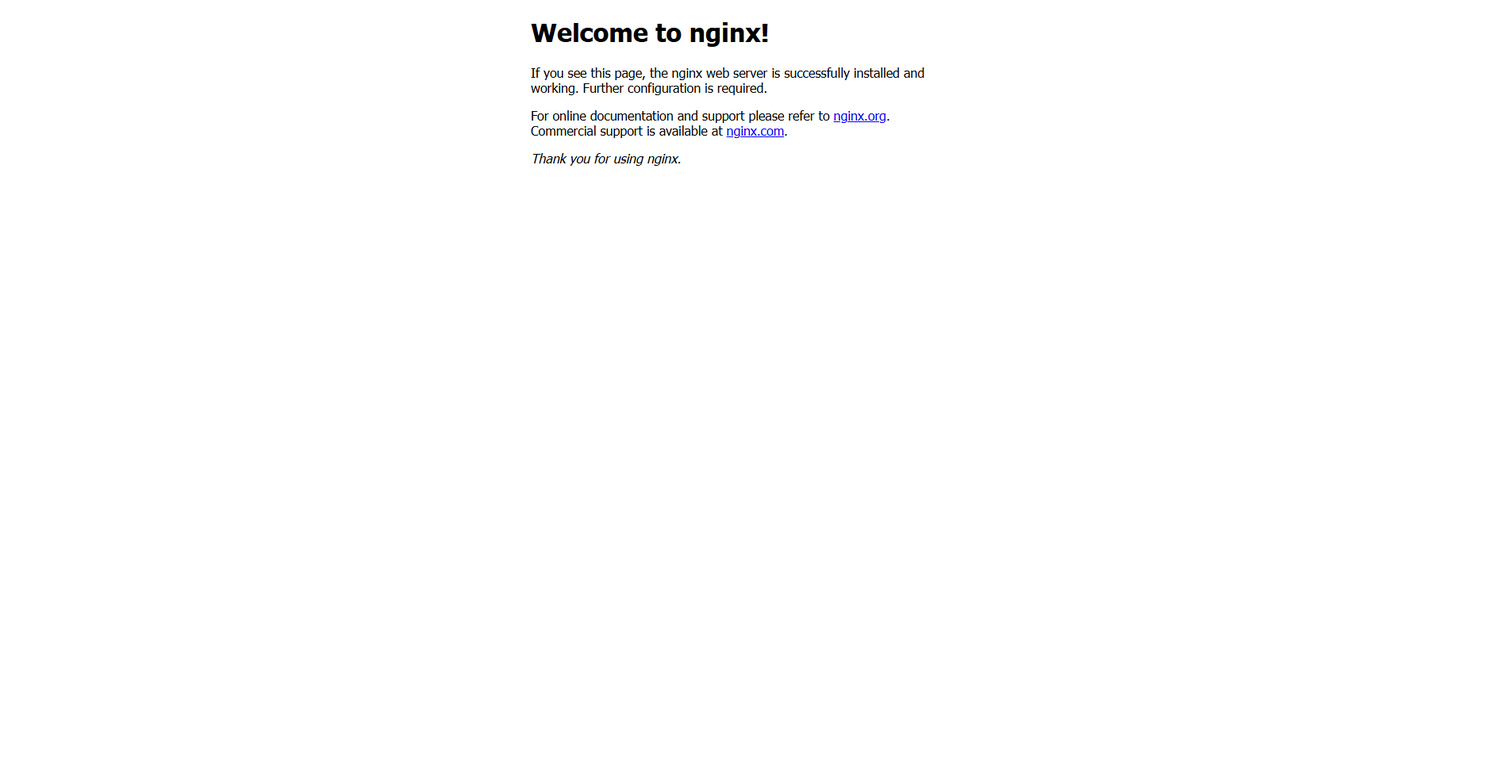general_link: (726, 123, 784, 138), (834, 108, 886, 123)
